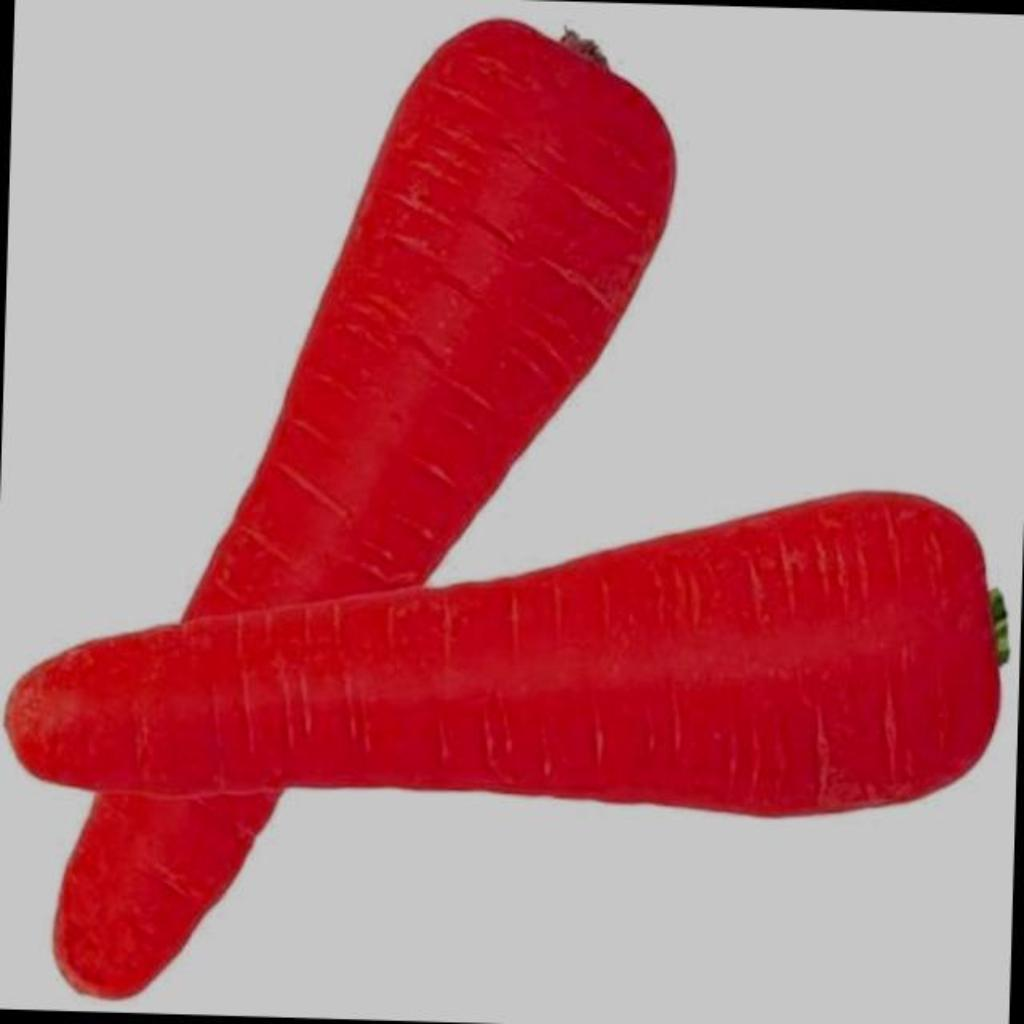carrot: (57, 20, 674, 1001), (8, 494, 1000, 814)
